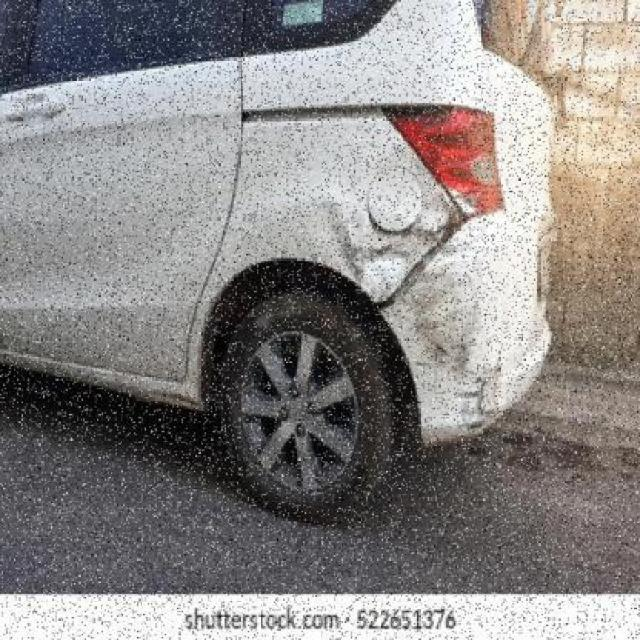quaterpanel-dent: (230, 108, 429, 314)
rear-bumper-dent: (383, 216, 590, 447)
